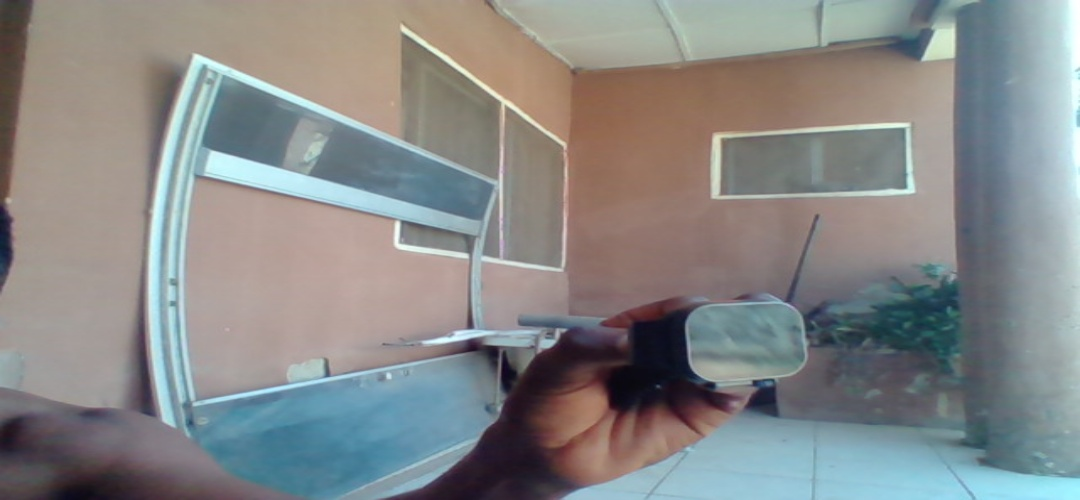smart_watch: (645, 297, 813, 387)
